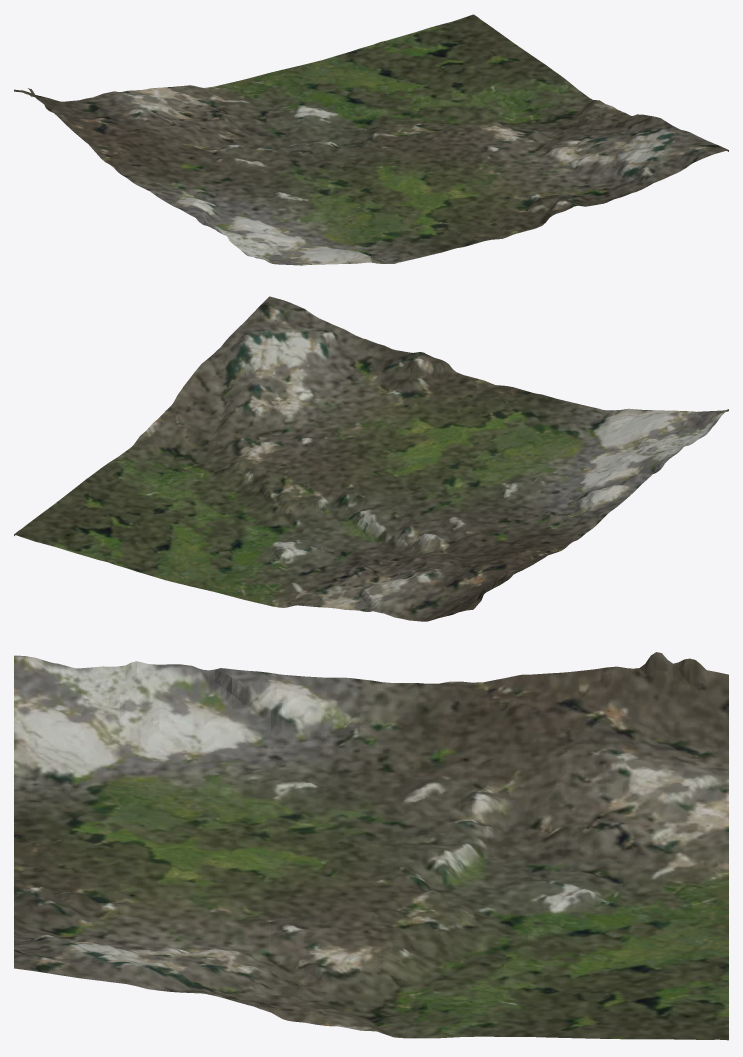
The picture shows the model from 3 angles, top to bottom: view 1: azimuth 30°, elevation 25°; view 2: azimuth 150°, elevation 25°; view 3: azimuth 270°, elevation 25°; orthographic projection. The views are drawn at different scales.
Bounding box in the file's own units: 250 × 33.37 × 241.
1 material, 1 textured.
